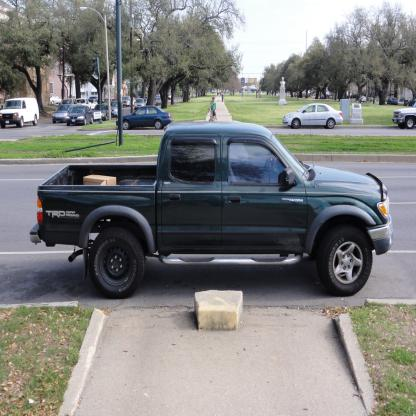Car: (283, 104, 343, 128), (116, 107, 173, 129), (67, 104, 94, 126), (393, 102, 415, 128)
Truck: (30, 122, 394, 298)
